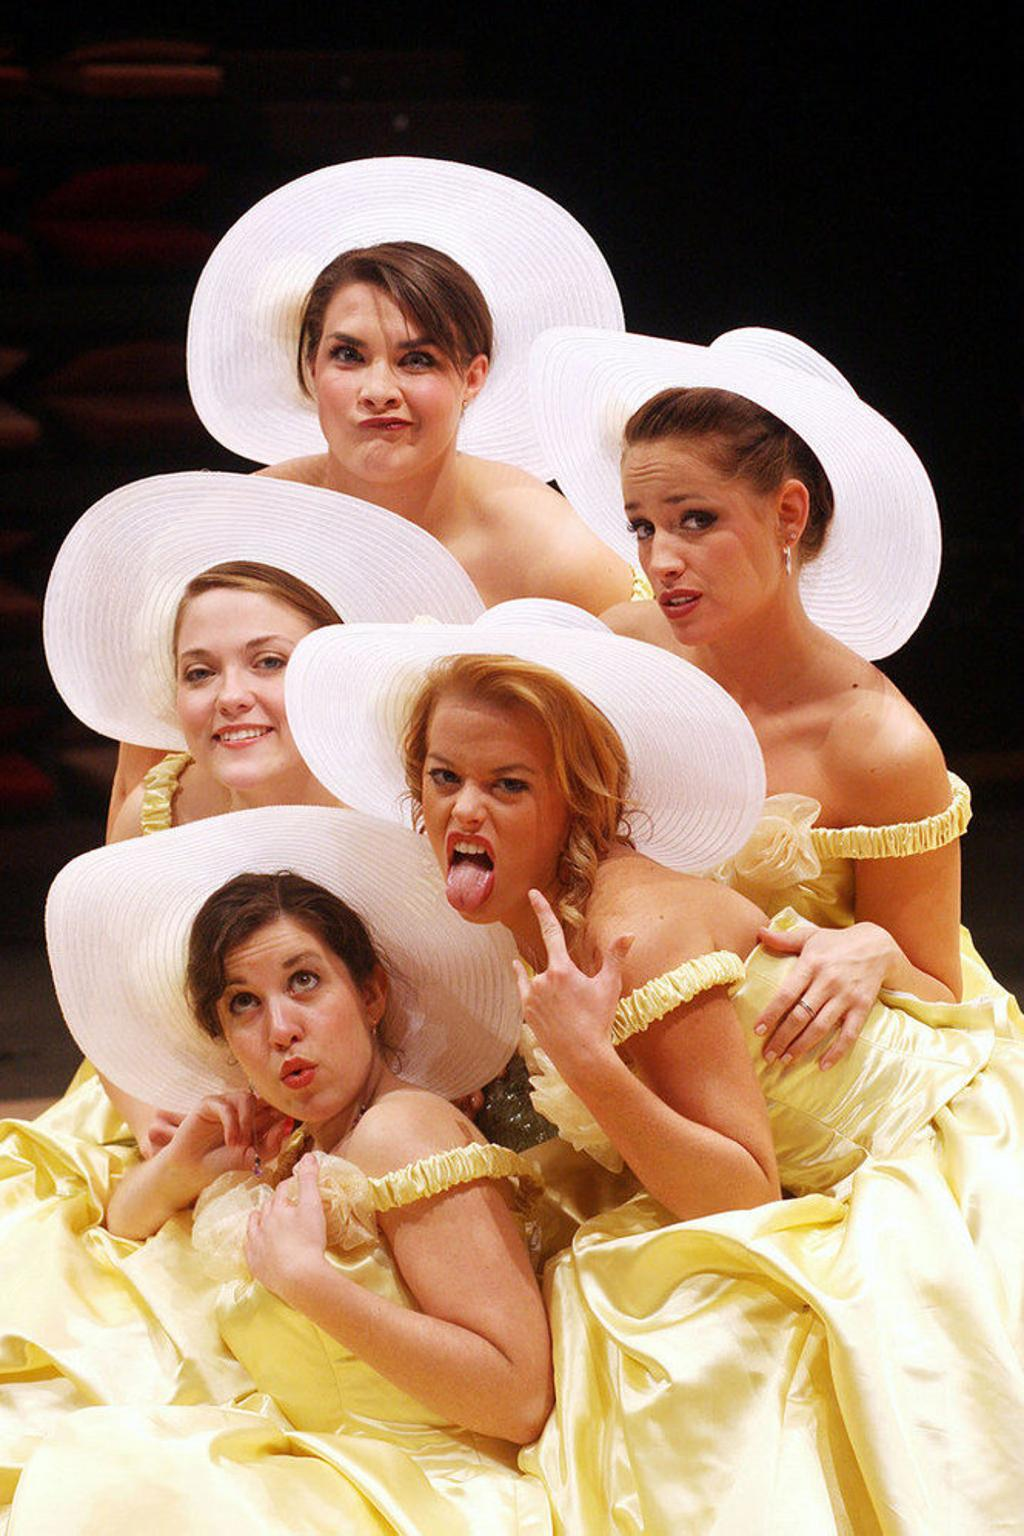face: (623, 428, 782, 644), (308, 263, 461, 479), (171, 575, 321, 782), (425, 686, 551, 923), (219, 925, 366, 1117)
